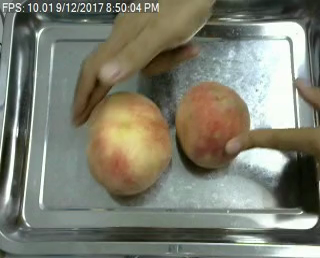Peach: (85, 91, 174, 195), (174, 81, 252, 169)
